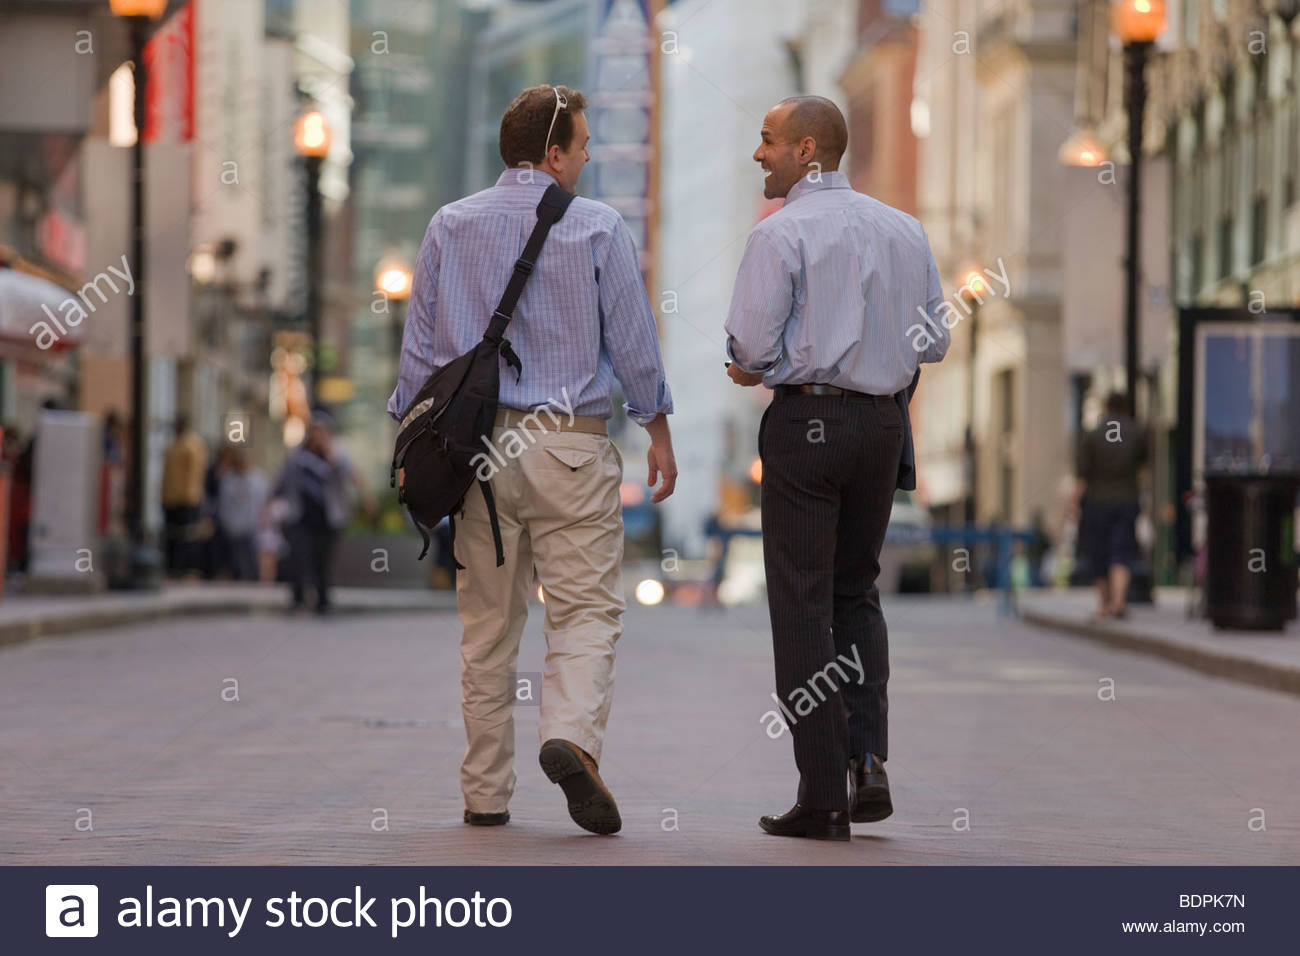Person: (384, 75, 685, 832), (725, 96, 966, 848)
